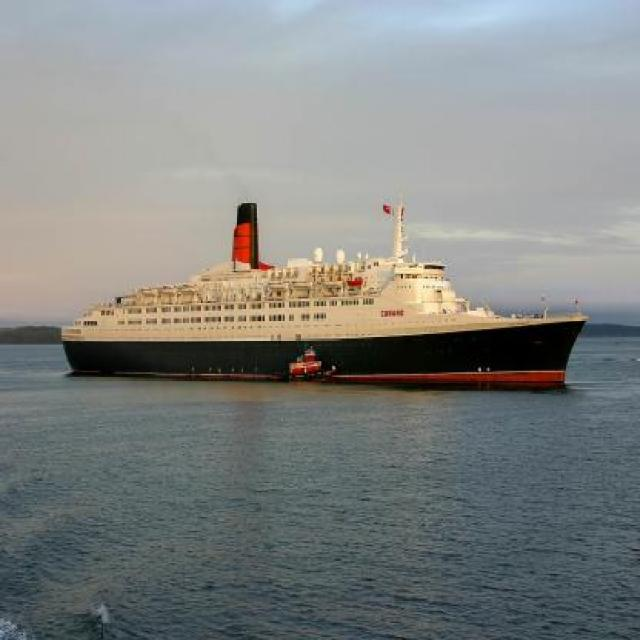ship: (59, 189, 587, 389)
